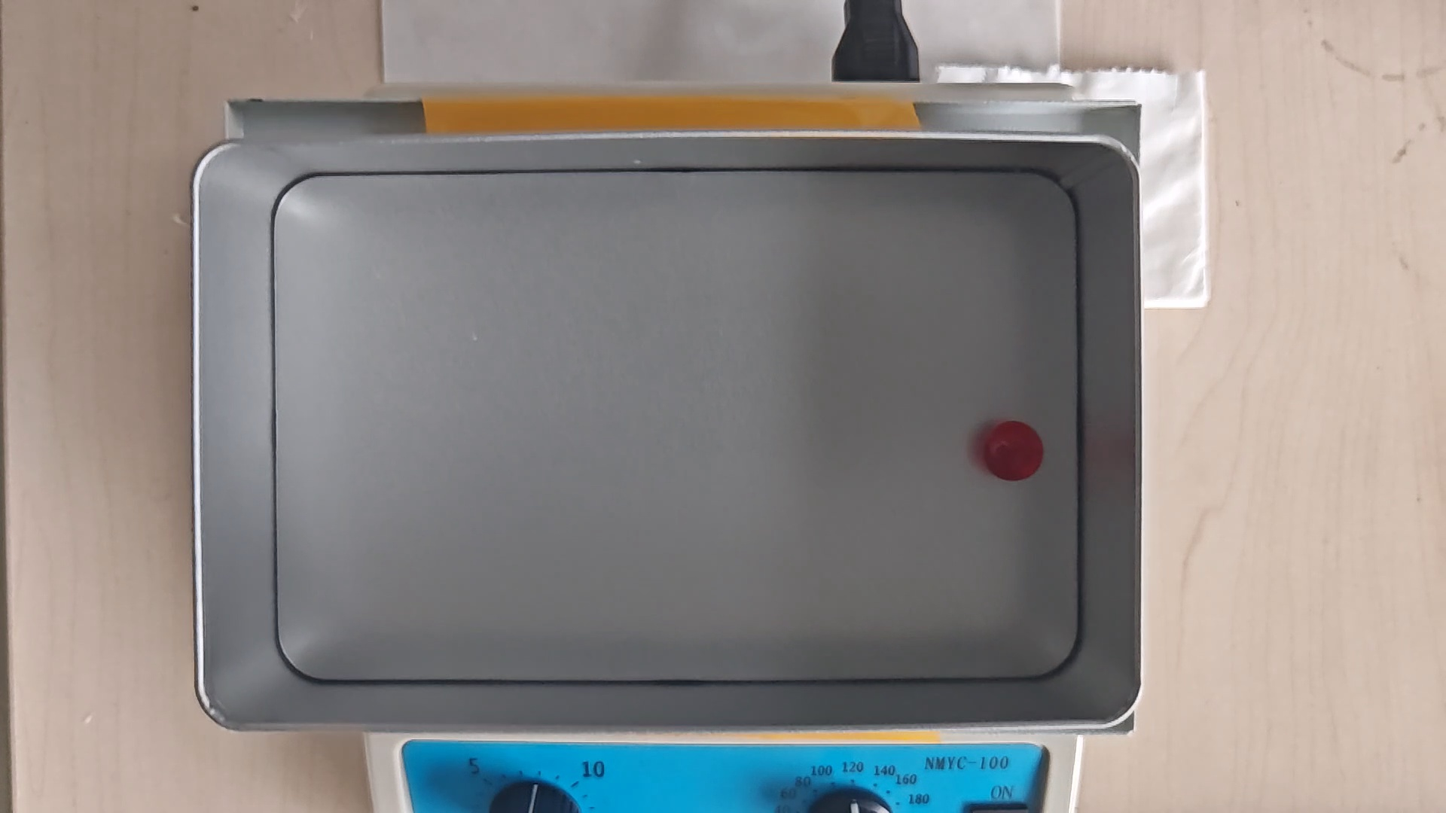ball: (985, 419, 1046, 483)
container: (271, 172, 1079, 680)
